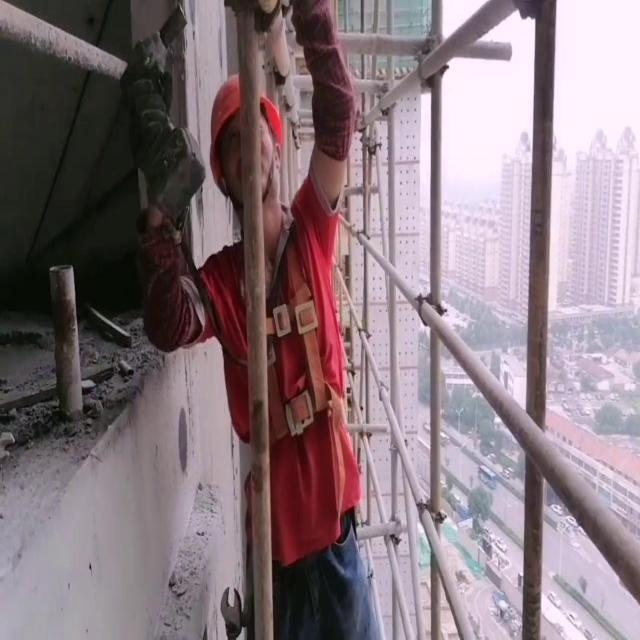Arnes_seguridad: (228, 208, 350, 457)
